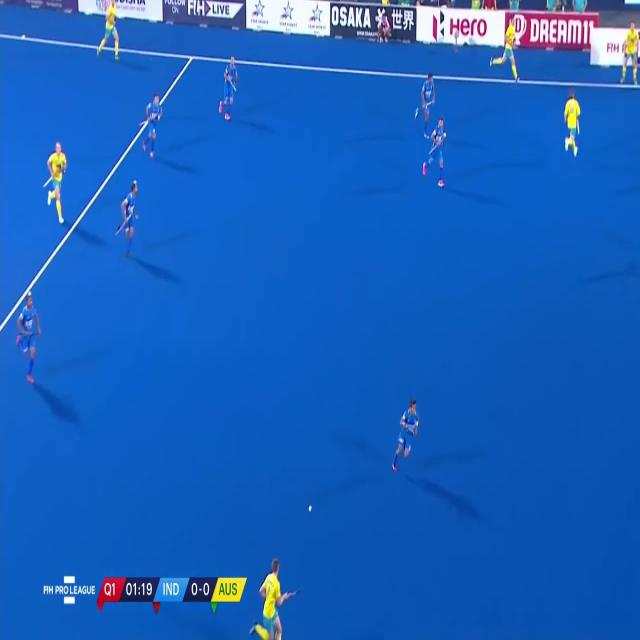ball: (303, 501, 315, 516)
